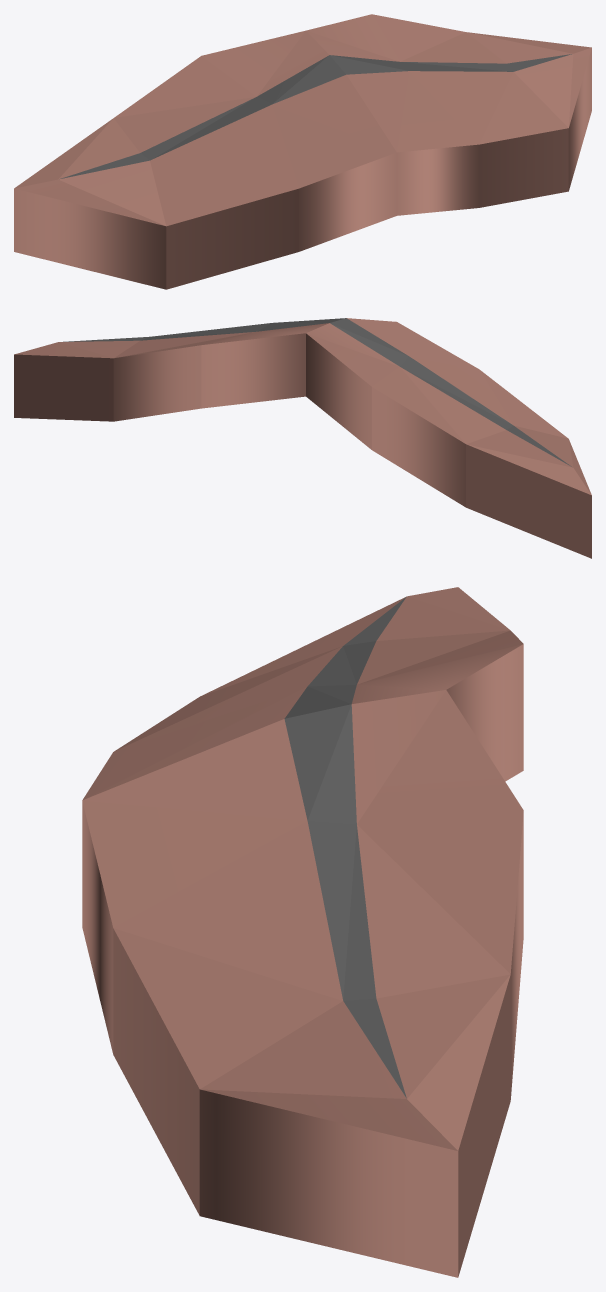
The model's file is Mouth 07.FBX.
3 views of the same model, one above another, from view 1: azimuth 30°, elevation 25°; view 2: azimuth 150°, elevation 25°; view 3: azimuth 270°, elevation 25° (orthographic). The views are drawn at different scales.
Parts seen in each view (by area): view 1: Mouth 07; view 2: Mouth 07; view 3: Mouth 07.
Part boxes in pixels (left/top/right/bottom): Mouth 07: left=14, top=14, right=591, bottom=289; Mouth 07: left=14, top=318, right=591, bottom=558; Mouth 07: left=82, top=587, right=523, bottom=1277.
Size of the model in its own units: 7.84 by 2.14 by 2.59.
